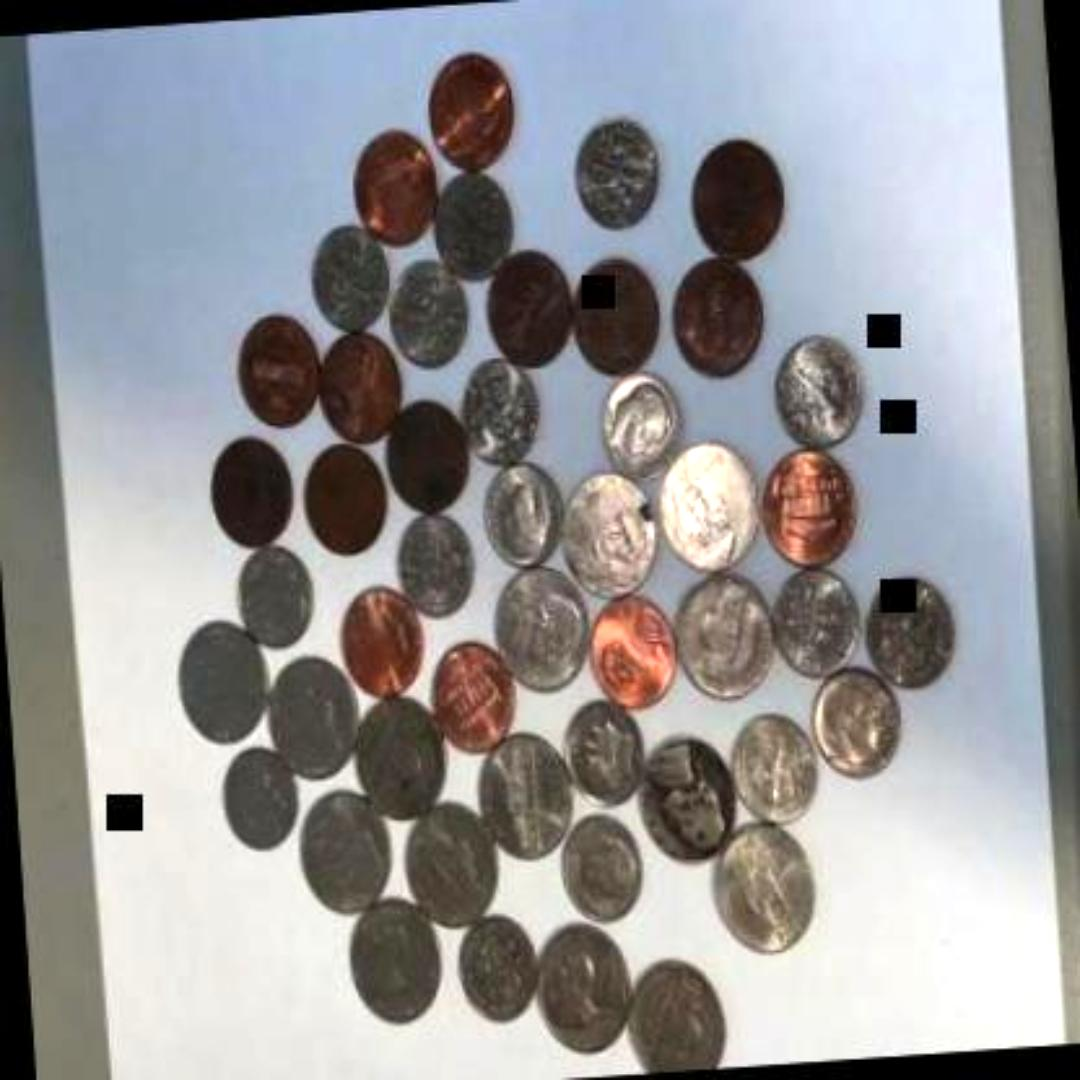Dime: (860, 576, 962, 694), (771, 332, 872, 450), (228, 531, 322, 655), (558, 806, 650, 930), (728, 703, 820, 827), (812, 660, 904, 784), (770, 568, 866, 684), (388, 508, 482, 626), (598, 366, 690, 486), (458, 348, 552, 464), (480, 456, 574, 572), (384, 259, 476, 375), (568, 112, 660, 228), (457, 913, 547, 1029), (428, 170, 516, 282), (557, 698, 647, 806), (305, 224, 393, 334), (217, 742, 300, 850)
Nickel: (711, 814, 825, 960), (340, 894, 454, 1038), (654, 435, 768, 575), (667, 566, 778, 706), (395, 796, 506, 934), (472, 728, 582, 864), (347, 687, 453, 827), (527, 917, 633, 1057), (635, 731, 741, 871), (624, 946, 736, 1074), (558, 466, 664, 598), (296, 784, 392, 920), (490, 562, 592, 690), (175, 616, 276, 744), (262, 654, 362, 783)
Penny: (686, 134, 796, 266), (580, 588, 682, 718), (756, 444, 858, 572), (480, 244, 580, 374), (380, 390, 476, 524), (567, 252, 663, 382), (664, 255, 764, 379), (423, 44, 519, 173), (348, 122, 442, 252), (300, 433, 394, 557), (313, 325, 409, 439), (206, 432, 298, 550), (232, 310, 320, 428), (424, 638, 516, 749), (336, 581, 424, 697)
